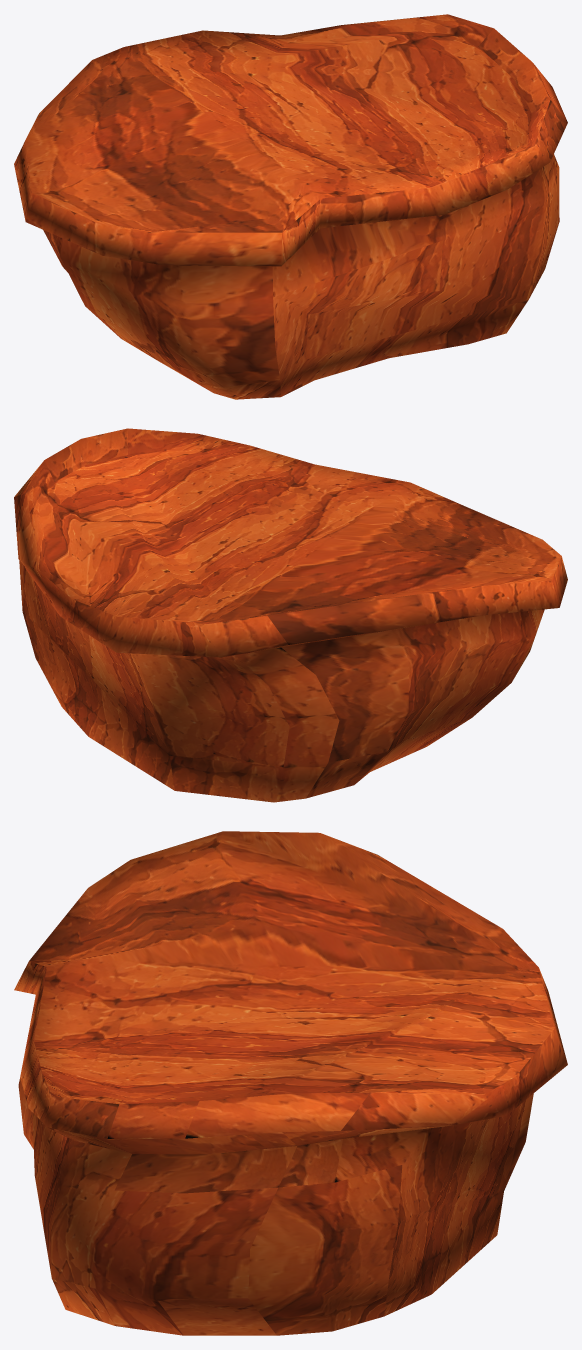
The model's file is Rock2.fbx.
3 views of the same model, one above another, from view 1: azimuth 30°, elevation 25°; view 2: azimuth 150°, elevation 25°; view 3: azimuth 270°, elevation 25° (orthographic). The views are drawn at different scales.
Parts seen in each view (by area): view 1: Rock1.001; view 2: Rock1.001; view 3: Rock1.001.
Boxes of the visible parts, x1,y1,x2,y2 form: Rock1.001: (14,14,567,399); Rock1.001: (14,428,567,802); Rock1.001: (14,831,567,1335).
Size of the model in its own units: 594 by 249 by 455.
1 material, 1 textured.
